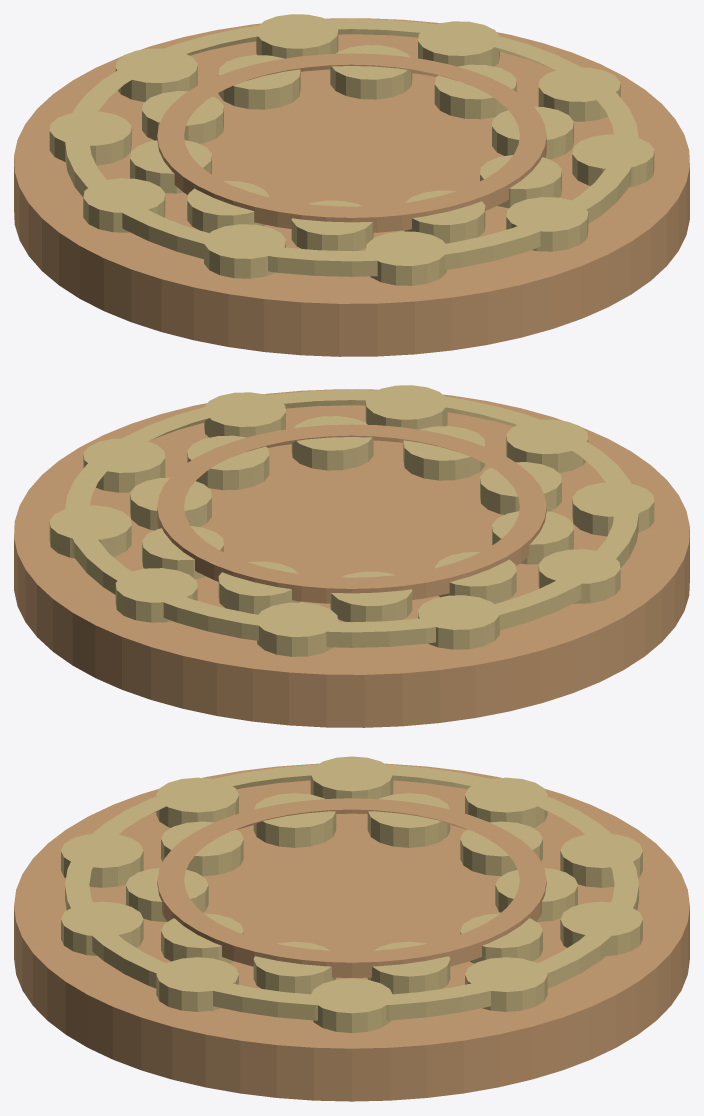
The model's file is 21_L76_SegmentedCopperAnodeAssembly.glb.
3 renders of one model, top to bottom at view 1: azimuth 30°, elevation 25°; view 2: azimuth 150°, elevation 25°; view 3: azimuth 270°, elevation 25°, orthographic.
Parts seen in each view (by area): view 1: SegmentedCopperAnodeAssembly_Node_0000, SegmentedCopperAnodeAssembly_Node_0021, SegmentedCopperAnodeAssembly_Node_0022, SegmentedCopperAnodeAssembly_Node_0007, SegmentedCopperAnodeAssembly_Node_0009, SegmentedCopperAnodeAssembly_Node_0001, SegmentedCopperAnodeAssembly_Node_0015, SegmentedCopperAnodeAssembly_Node_0005, SegmentedCopperAnodeAssembly_Node_0017, SegmentedCopperAnodeAssembly_Node_0019, SegmentedCopperAnodeAssembly_Node_0003, SegmentedCopperAnodeAssembly_Node_0011 (+11 smaller); view 2: SegmentedCopperAnodeAssembly_Node_0000, SegmentedCopperAnodeAssembly_Node_0021, SegmentedCopperAnodeAssembly_Node_0022, SegmentedCopperAnodeAssembly_Node_0015, SegmentedCopperAnodeAssembly_Node_0013, SegmentedCopperAnodeAssembly_Node_0007, SegmentedCopperAnodeAssembly_Node_0001, SegmentedCopperAnodeAssembly_Node_0017, SegmentedCopperAnodeAssembly_Node_0003, SegmentedCopperAnodeAssembly_Node_0005, SegmentedCopperAnodeAssembly_Node_0019, SegmentedCopperAnodeAssembly_Node_0011 (+11 smaller); view 3: SegmentedCopperAnodeAssembly_Node_0000, SegmentedCopperAnodeAssembly_Node_0021, SegmentedCopperAnodeAssembly_Node_0022, SegmentedCopperAnodeAssembly_Node_0001, SegmentedCopperAnodeAssembly_Node_0013, SegmentedCopperAnodeAssembly_Node_0009, SegmentedCopperAnodeAssembly_Node_0007, SegmentedCopperAnodeAssembly_Node_0003, SegmentedCopperAnodeAssembly_Node_0019, SegmentedCopperAnodeAssembly_Node_0015, SegmentedCopperAnodeAssembly_Node_0011, SegmentedCopperAnodeAssembly_Node_0010 (+11 smaller).
Boxes of the visible parts, x1,y1,x2,y2 form: SegmentedCopperAnodeAssembly_Node_0000: [14, 18, 689, 356]; SegmentedCopperAnodeAssembly_Node_0021: [65, 18, 638, 276]; SegmentedCopperAnodeAssembly_Node_0022: [157, 53, 546, 232]; SegmentedCopperAnodeAssembly_Node_0007: [365, 231, 447, 285]; SegmentedCopperAnodeAssembly_Node_0009: [204, 224, 285, 278]; SegmentedCopperAnodeAssembly_Node_0001: [538, 67, 620, 121]; SegmentedCopperAnodeAssembly_Node_0015: [115, 48, 197, 102]; SegmentedCopperAnodeAssembly_Node_0005: [506, 197, 588, 251]; SegmentedCopperAnodeAssembly_Node_0017: [256, 14, 338, 58]; SegmentedCopperAnodeAssembly_Node_0019: [418, 21, 499, 66]; SegmentedCopperAnodeAssembly_Node_0003: [572, 134, 654, 187]; SegmentedCopperAnodeAssembly_Node_0011: [83, 178, 165, 232]; SegmentedCopperAnodeAssembly_Node_0000: [14, 389, 689, 727]; SegmentedCopperAnodeAssembly_Node_0021: [65, 389, 638, 647]; SegmentedCopperAnodeAssembly_Node_0022: [157, 424, 546, 603]; SegmentedCopperAnodeAssembly_Node_0015: [256, 602, 338, 656]; SegmentedCopperAnodeAssembly_Node_0013: [418, 595, 499, 649]; SegmentedCopperAnodeAssembly_Node_0007: [506, 419, 588, 473]; SegmentedCopperAnodeAssembly_Node_0001: [83, 438, 165, 492]; SegmentedCopperAnodeAssembly_Node_0017: [115, 568, 197, 622]; SegmentedCopperAnodeAssembly_Node_0003: [204, 392, 285, 437]; SegmentedCopperAnodeAssembly_Node_0005: [365, 385, 447, 429]; SegmentedCopperAnodeAssembly_Node_0019: [49, 505, 131, 558]; SegmentedCopperAnodeAssembly_Node_0011: [538, 549, 620, 603]; SegmentedCopperAnodeAssembly_Node_0000: [14, 763, 689, 1101]; SegmentedCopperAnodeAssembly_Node_0021: [65, 763, 638, 1020]; SegmentedCopperAnodeAssembly_Node_0022: [157, 798, 546, 977]; SegmentedCopperAnodeAssembly_Node_0001: [311, 978, 392, 1032]; SegmentedCopperAnodeAssembly_Node_0013: [465, 777, 547, 827]; SegmentedCopperAnodeAssembly_Node_0009: [156, 777, 238, 827]; SegmentedCopperAnodeAssembly_Node_0007: [61, 833, 143, 887]; SegmentedCopperAnodeAssembly_Node_0003: [156, 957, 238, 1011]; SegmentedCopperAnodeAssembly_Node_0019: [465, 957, 547, 1011]; SegmentedCopperAnodeAssembly_Node_0015: [560, 833, 642, 887]; SegmentedCopperAnodeAssembly_Node_0011: [310, 756, 393, 798]; SegmentedCopperAnodeAssembly_Node_0010: [253, 793, 336, 847].
Size of the model in its own units: 2.78 by 0.355 by 2.78.
